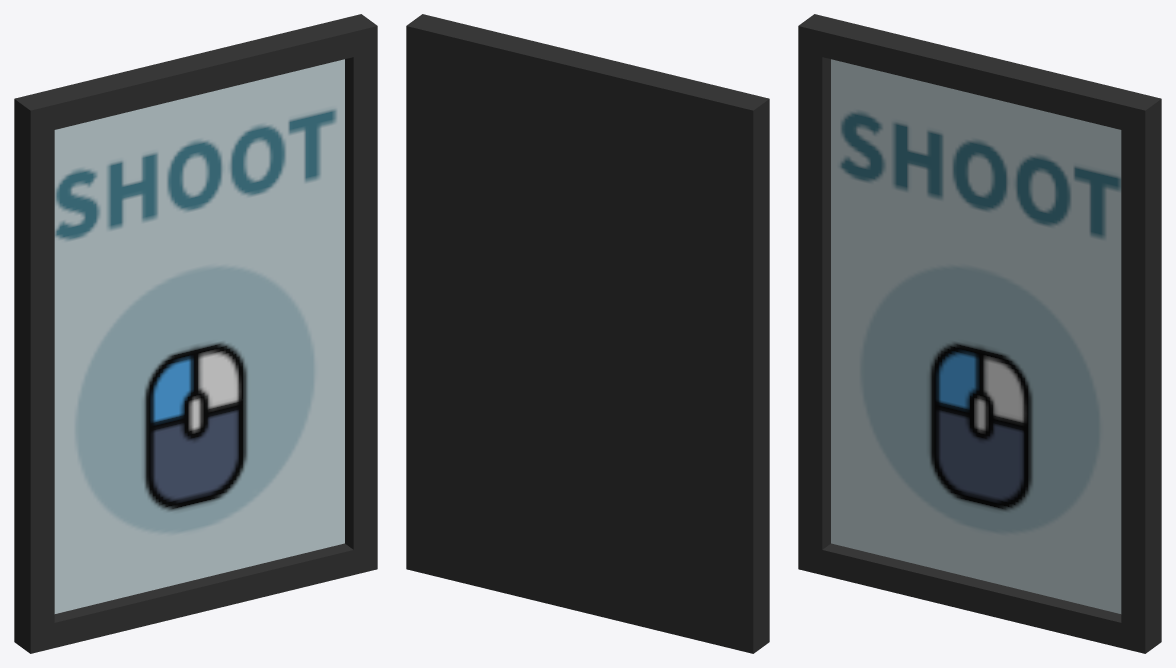
File: B00_Cadre_Tuto_SHOOT.fbx
3 renders of one model, left to right at view 1: azimuth 30°, elevation 25°; view 2: azimuth 150°, elevation 25°; view 3: azimuth 330°, elevation 25°, orthographic.
Visible parts, largest first — view 1: B02_Cadre_Tuto_SHOOT; view 2: B02_Cadre_Tuto_SHOOT; view 3: B02_Cadre_Tuto_SHOOT.
Part boxes in pixels (x1,y1,x2,y2): B02_Cadre_Tuto_SHOOT: [14, 14, 377, 653]; B02_Cadre_Tuto_SHOOT: [406, 14, 769, 653]; B02_Cadre_Tuto_SHOOT: [798, 14, 1161, 653].
Size of the model in its own units: 331 by 495 by 26.98.
